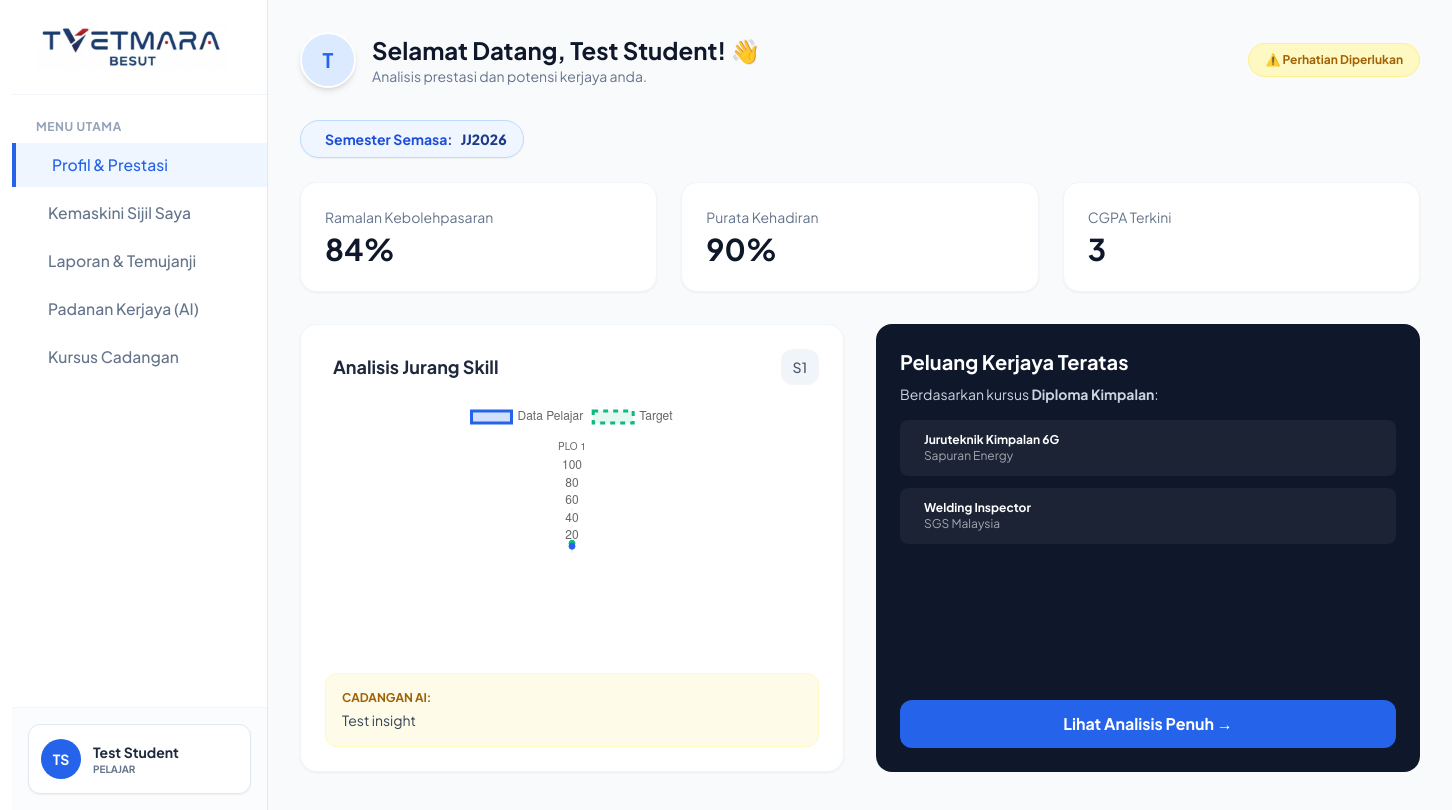
career tab › keeps the pathway visible if job listings are unavailable
Expected: the text "Test insight" is shown, x1=342 y1=711 x2=416 y2=729
Click the button "Padanan Kerjaya (AI)": [140, 309] box x1=12 y1=287 x2=267 y2=331
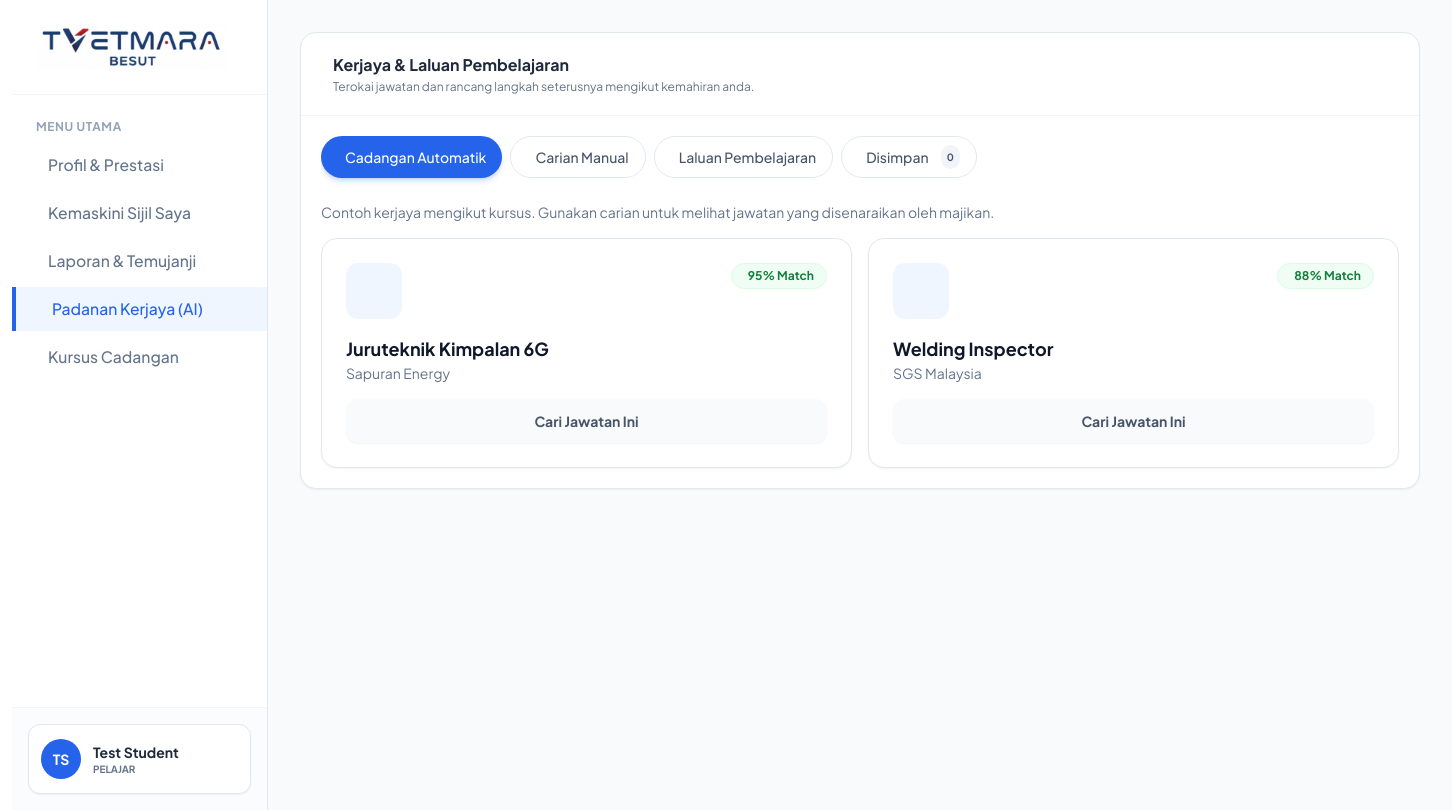
Click the button "Laluan Pembelajaran": [743, 157] box x1=654 y1=136 x2=833 y2=178
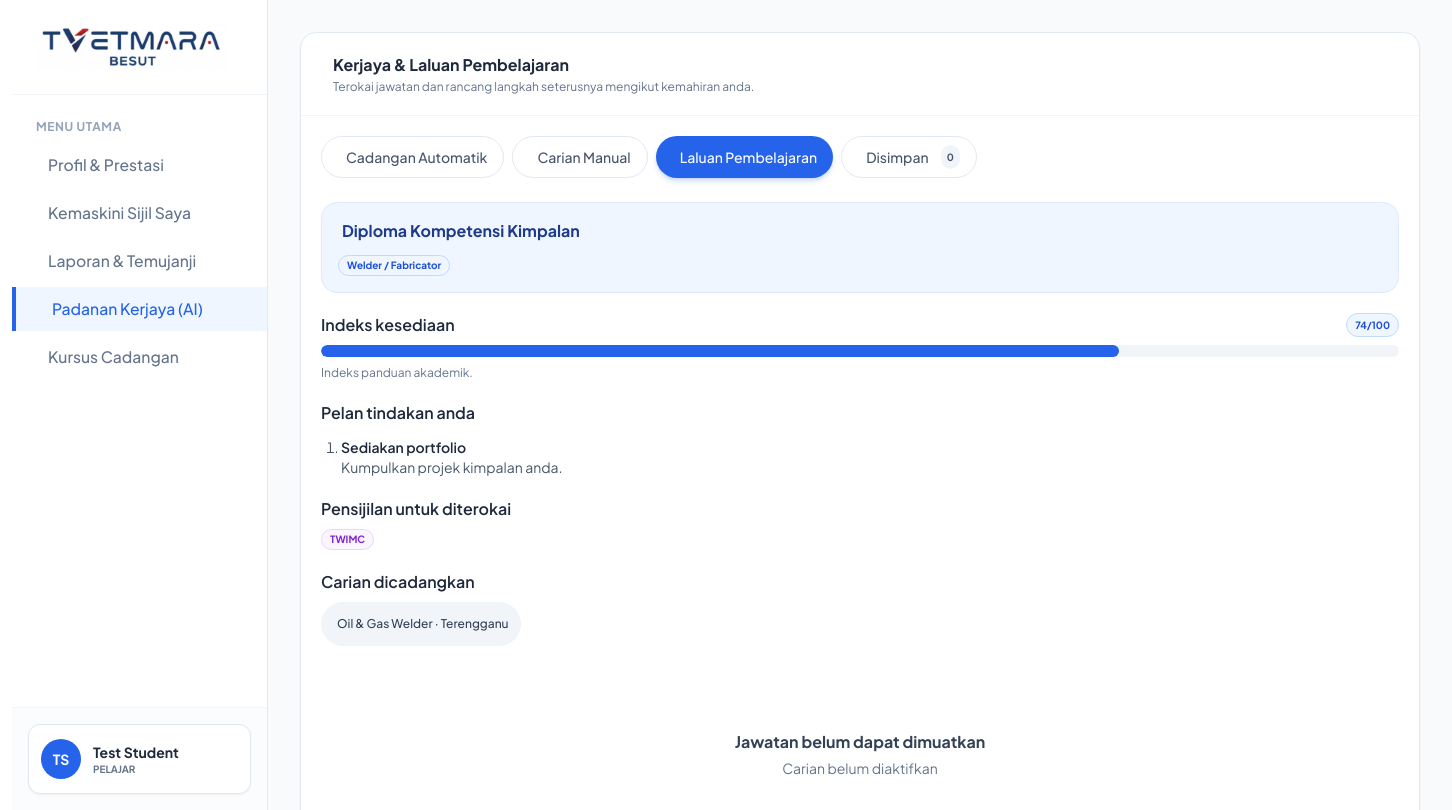
Result: the text "Sediakan portfolio" is shown at x1=341 y1=438 x2=466 y2=456
Result: the text "Carian belum diaktifkan" is shown at x1=782 y1=758 x2=938 y2=778
